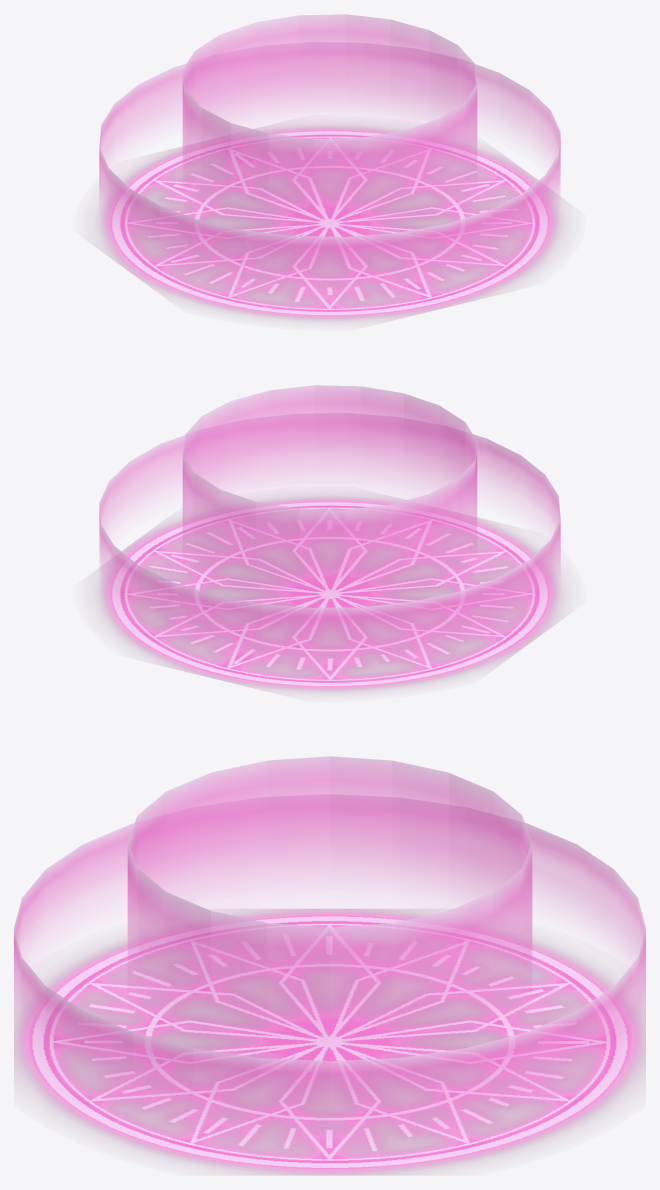
Rendered from fx_bloom_t3.glb.
The picture shows the model from 3 angles, top to bottom: view 1: azimuth 30°, elevation 25°; view 2: azimuth 150°, elevation 25°; view 3: azimuth 270°, elevation 25°; orthographic projection. The views are drawn at different scales.
Visible parts, largest first — view 1: fx_bloom_veil, fx_bloom_rune; view 2: fx_bloom_veil, fx_bloom_rune; view 3: fx_bloom_veil, fx_bloom_rune.
Part boxes in pixels (x1=…): fx_bloom_veil: x1=99, y1=14, x2=560, y2=286; fx_bloom_rune: x1=96, y1=124, x2=563, y2=321; fx_bloom_veil: x1=99, y1=385, x2=560, y2=659; fx_bloom_rune: x1=96, y1=495, x2=563, y2=692; fx_bloom_veil: x1=14, y1=756, x2=645, y2=1130; fx_bloom_rune: x1=14, y1=909, x2=645, y2=1175.
Size of the model in its own units: 1 by 0.35 by 1.
2 materials, 2 textured.
